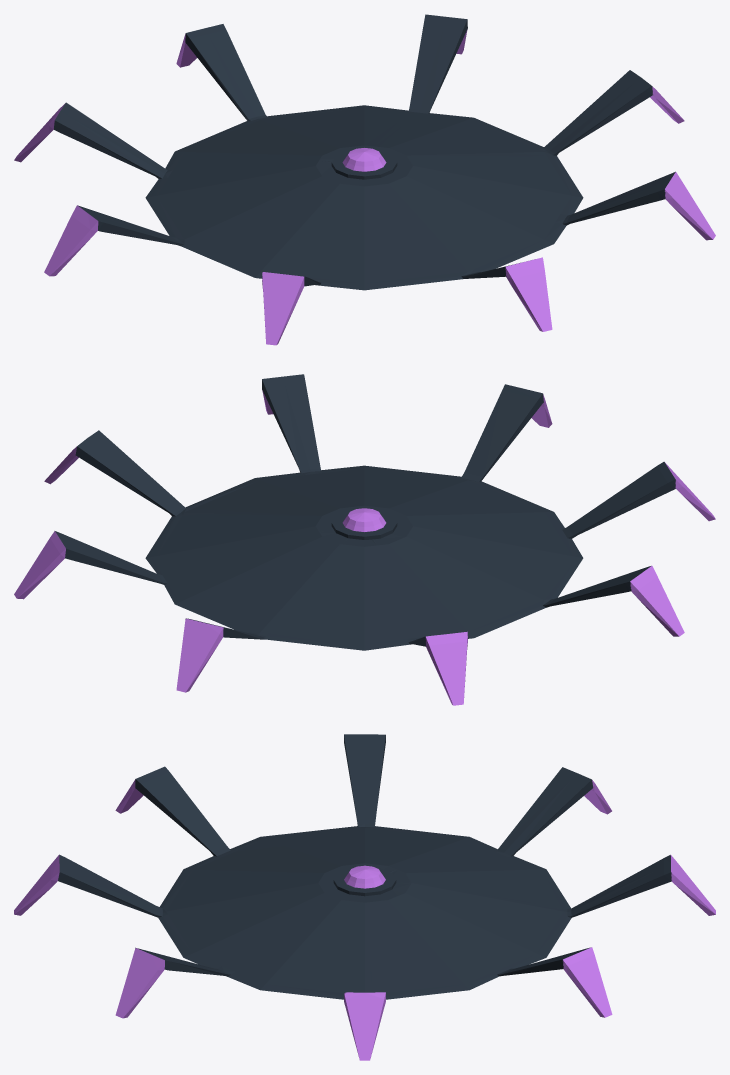
Rendered from Spider_Plant_000013.obj.
3 views of the same model, one above another, from view 1: azimuth 30°, elevation 25°; view 2: azimuth 150°, elevation 25°; view 3: azimuth 270°, elevation 25° (orthographic). The views are drawn at different scales.
Visible parts, largest first — view 1: Circle_Circle.001; view 2: Circle_Circle.001; view 3: Circle_Circle.001.
Part boxes in pixels (left/top/right/bottom): Circle_Circle.001: left=14, top=14, right=715, bottom=345; Circle_Circle.001: left=14, top=374, right=715, bottom=705; Circle_Circle.001: left=14, top=734, right=715, bottom=1060.
Bounding box in the file's own units: 3.35 × 0.2724 × 3.35.
